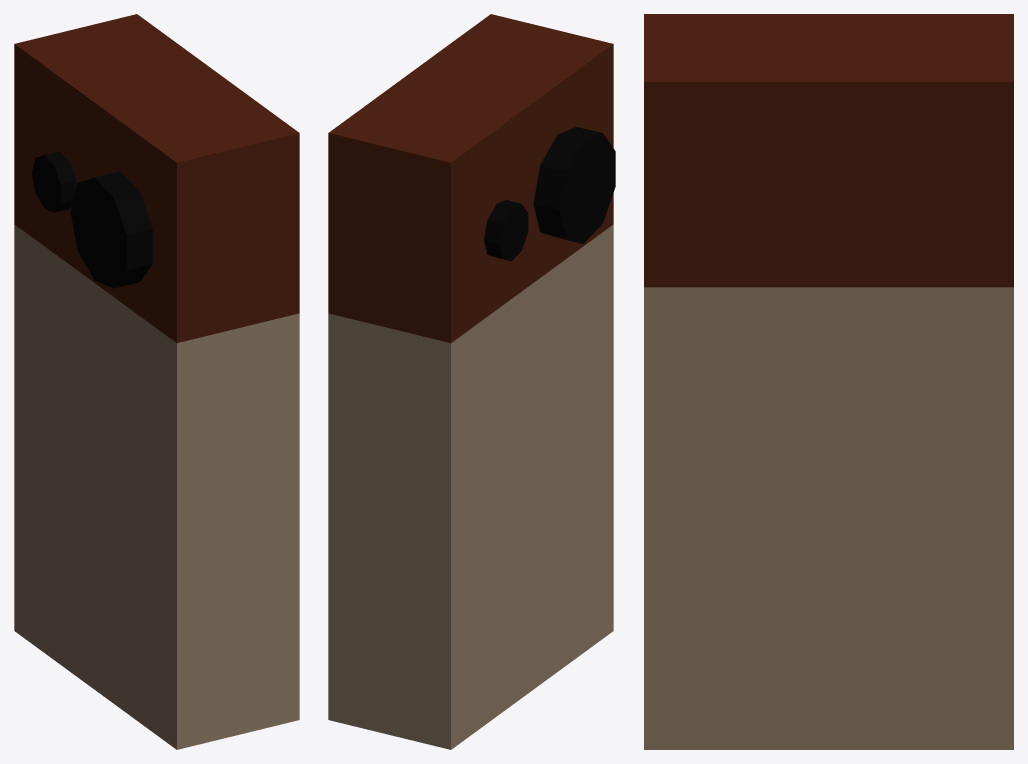
File: Radio.fbx
The picture shows the model from 3 angles, left to right: view 1: azimuth 30°, elevation 25°; view 2: azimuth 150°, elevation 25°; view 3: azimuth 270°, elevation 25°; orthographic projection. The views are drawn at different scales.
Parts seen in each view (by area): view 1: Cube; view 2: Cube; view 3: Cube.
Boxes of the visible parts, bbox=[...] form: Cube: bbox=[14, 14, 299, 749]; Cube: bbox=[328, 14, 615, 749]; Cube: bbox=[644, 14, 1013, 749].
Size of the model in its own units: 5.31 by 20.03 by 10.05.
